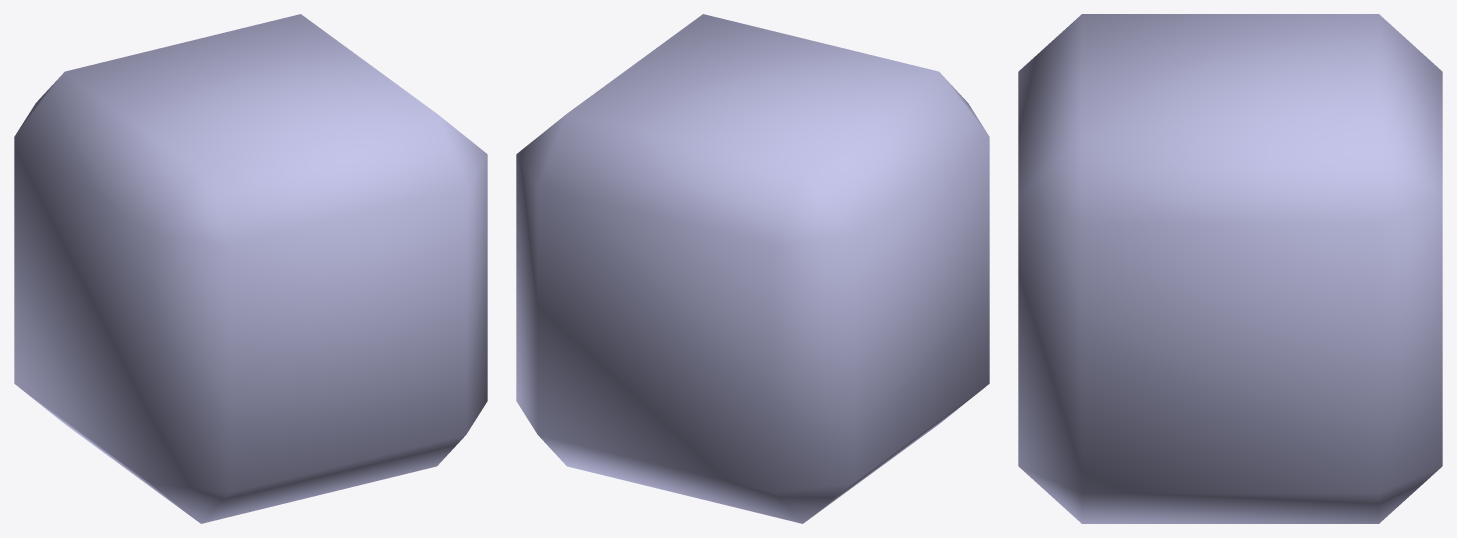
The model's file is BevelCube.fbx.
3 renders of one model, left to right at view 1: azimuth 30°, elevation 25°; view 2: azimuth 150°, elevation 25°; view 3: azimuth 270°, elevation 25°, orthographic. The views are drawn at different scales.
Parts seen in each view (by area): view 1: Cube; view 2: Cube; view 3: Cube.
Boxes of the visible parts, bbox=[...] form: Cube: bbox=[14, 14, 487, 523]; Cube: bbox=[516, 14, 989, 523]; Cube: bbox=[1018, 14, 1442, 523].
Size of the model in its own units: 2 by 2 by 2.
